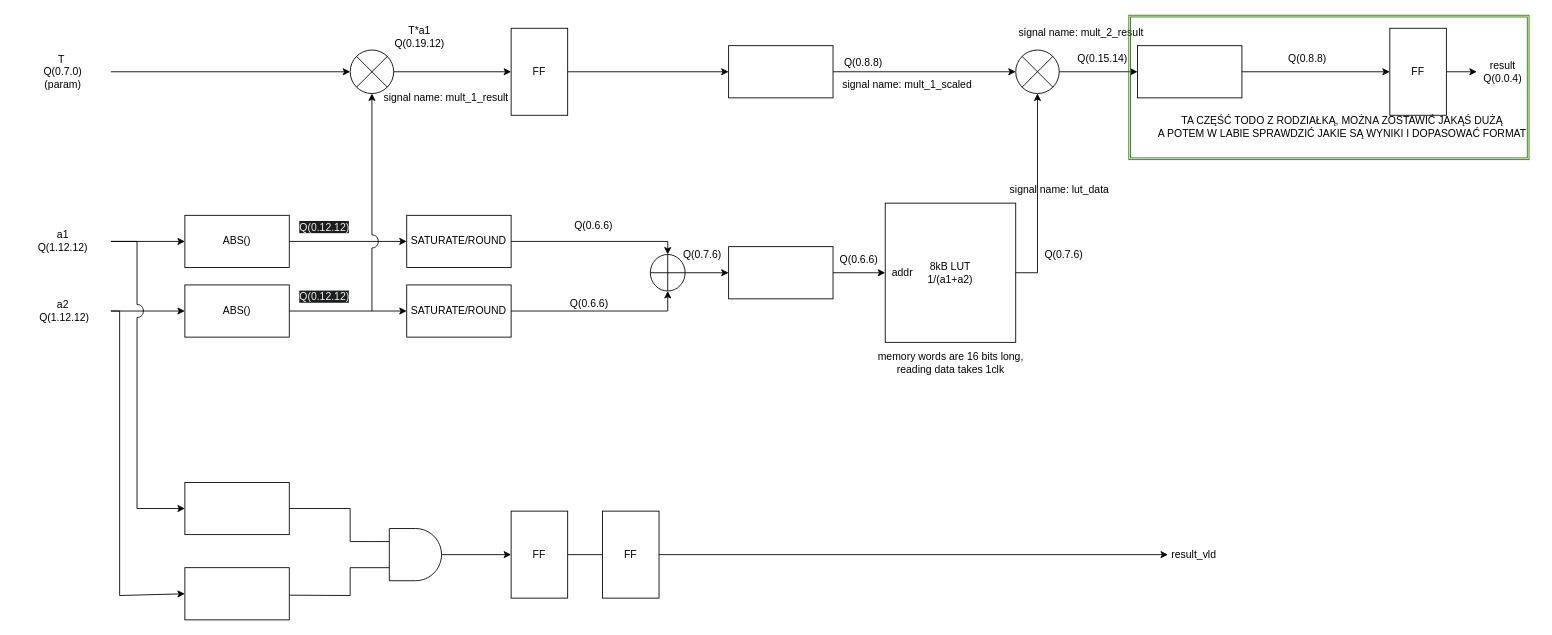
Image size: 1552x635. Some labels were removed from this diagram. Here are the shapes that lost their labels. From the top down, the box of each, then its label:
(728, 45, 833, 98): SAT & TRUNC
(1137, 45, 1242, 98): SAT & ROUND
(728, 246, 833, 299): SATURATE
(184, 482, 289, 535): a1 < 0
(184, 567, 289, 620): a2 > 0
